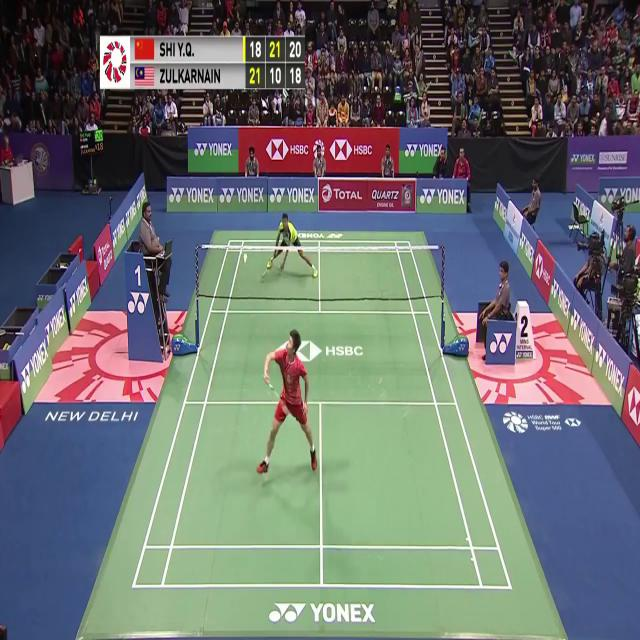Shuttlecock: (241, 256, 247, 268)
